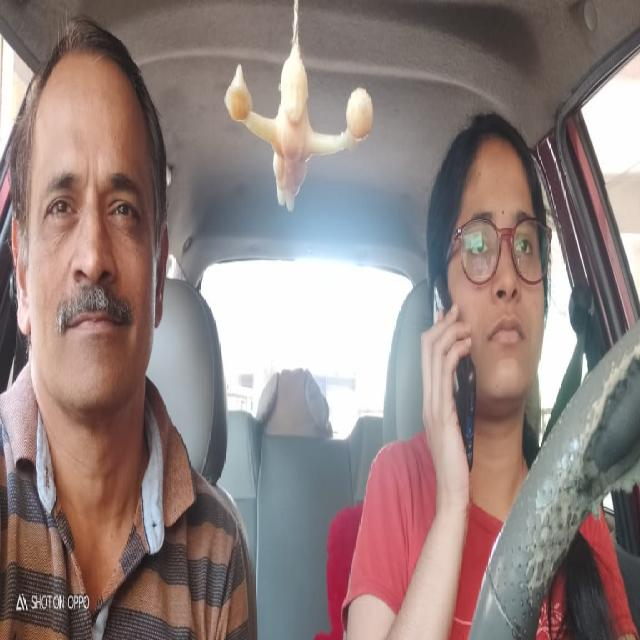mobile: (419, 293, 483, 458)
person: (11, 30, 163, 403), (430, 92, 551, 403)
